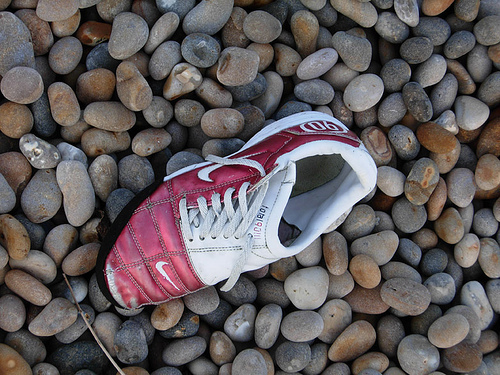litter: (97, 108, 376, 310)
